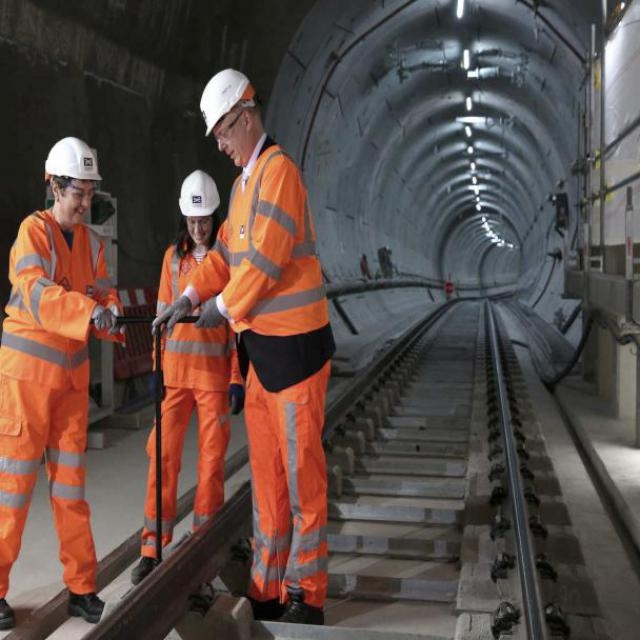gloves: (157, 290, 223, 348), (88, 295, 126, 343)
helmet: (202, 49, 264, 164), (160, 146, 222, 247), (44, 120, 100, 222)
vest: (224, 164, 349, 602), (0, 213, 112, 601), (142, 248, 229, 546)
